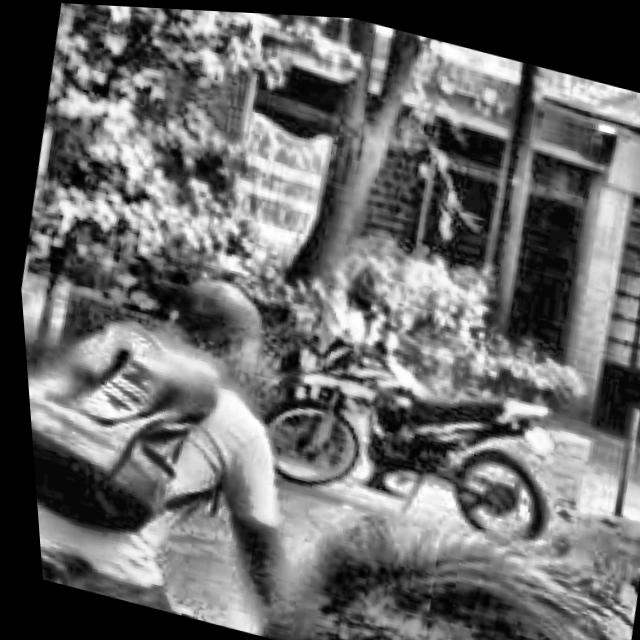motorcycle: (212, 221, 621, 569), (29, 495, 282, 638)
